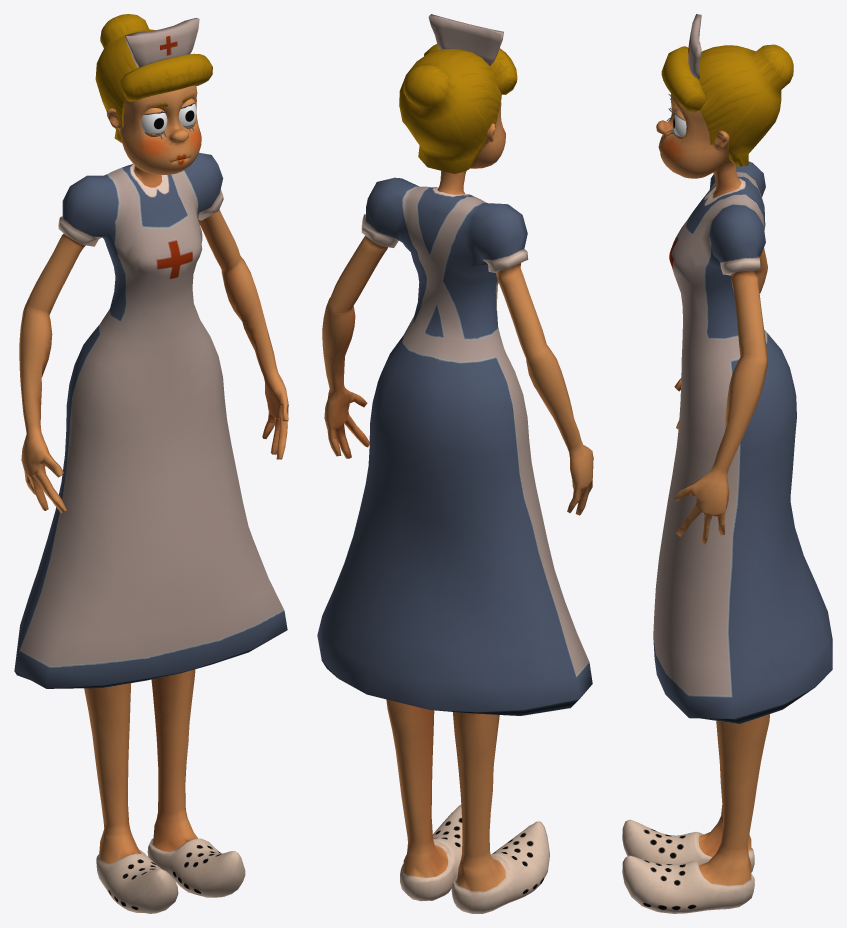
Rendered from nurse.glb.
3 views of the same model, side by side, from view 1: azimuth 30°, elevation 25°; view 2: azimuth 150°, elevation 25°; view 3: azimuth 270°, elevation 25° (orthographic).
Visible parts, largest first — view 1: Body_low1, Hair1_low, Hair2_low, Hairband_low, Eyes_low; view 2: Body_low1, Hair1_low, Hairband_low, Hair2_low; view 3: Body_low1, Hair1_low, Hair2_low, Hairband_low.
Boxes of the visible parts, x1,y1,x2,y2 form: Body_low1: [14, 85, 288, 913]; Hair1_low: [95, 14, 154, 142]; Hair2_low: [120, 53, 212, 101]; Hairband_low: [124, 18, 199, 67]; Eyes_low: [141, 103, 196, 133]; Body_low1: [317, 97, 593, 913]; Hair1_low: [399, 49, 501, 173]; Hairband_low: [428, 14, 503, 65]; Hair2_low: [424, 44, 517, 94]; Body_low1: [622, 93, 832, 913]; Hair1_low: [698, 44, 793, 167]; Hair2_low: [661, 46, 705, 112]; Hairband_low: [688, 14, 701, 79].
Size of the model in its own units: 73.64 by 233 by 51.64.
1 material, 1 textured.
